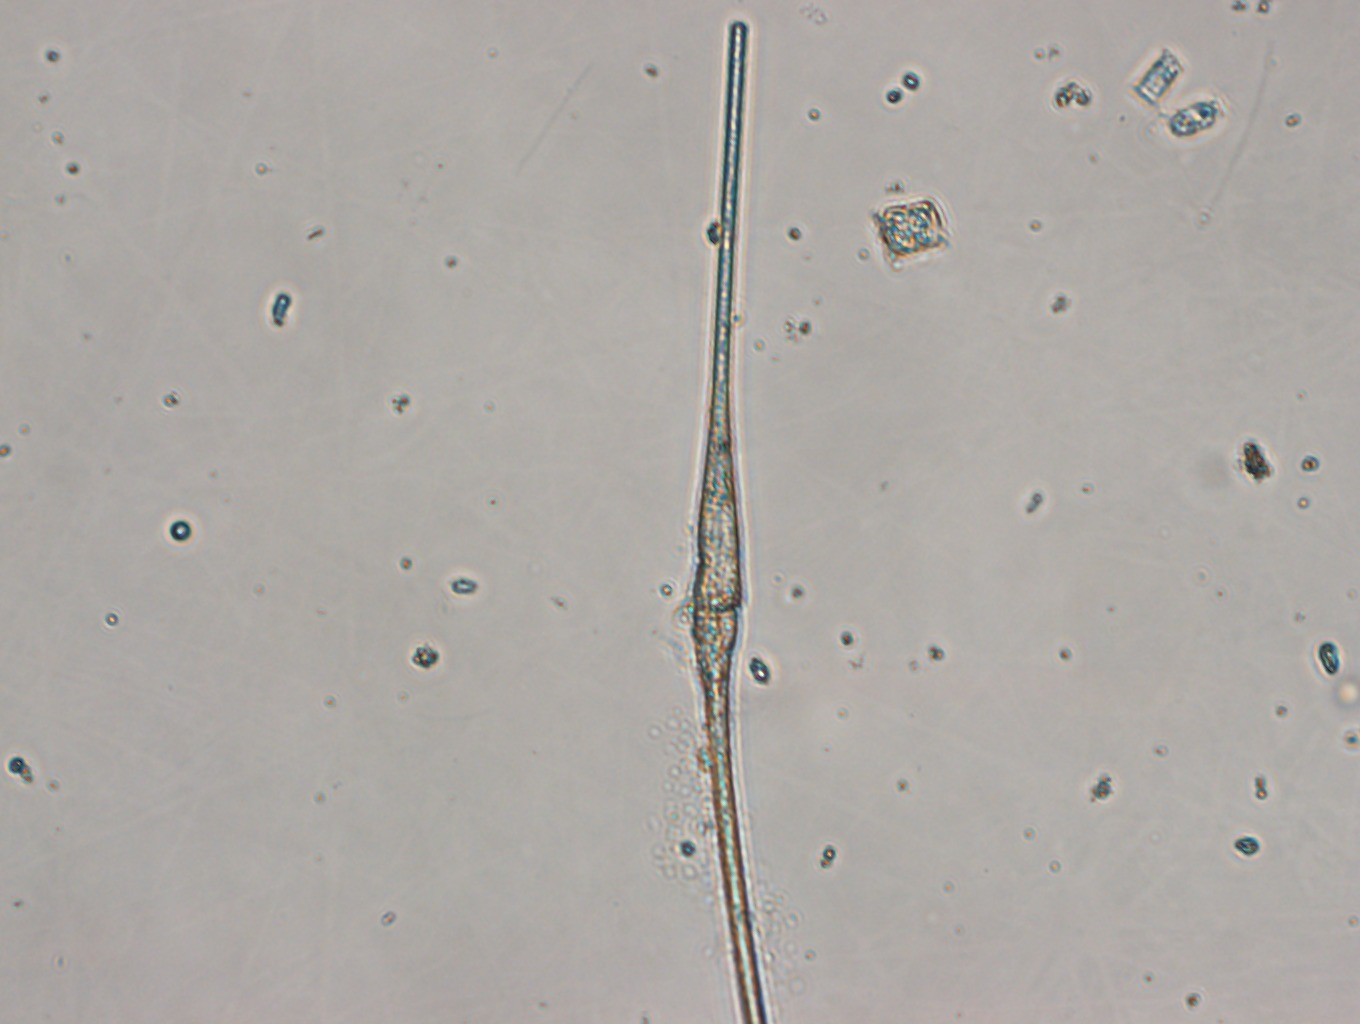ceratium fusus: (686, 22, 768, 1024)
